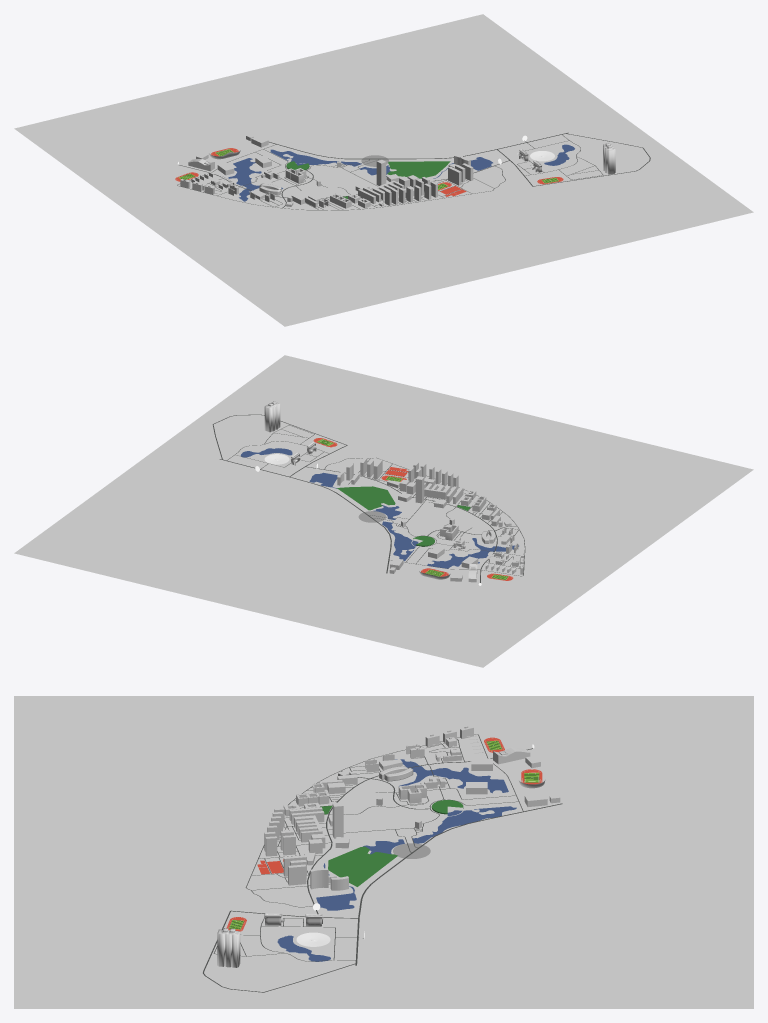
The model's file is map.glb.
3 renders of one model, top to bottom at view 1: azimuth 30°, elevation 25°; view 2: azimuth 150°, elevation 25°; view 3: azimuth 270°, elevation 25°, orthographic. The views are drawn at different scales.
Visible parts, largest first — view 1: 地面, 湖, map_2.osm_roads_service, map_2.osm_forest; view 2: 地面, 湖, map_2.osm_roads_service, map_2.osm_forest; view 3: 地面, 湖, map_2.osm_roads_service, map_2.osm_forest, Cube, map_2.osm_roads_residential, 基础实验大楼.
Part boxes in pixels (x1,y1,x2,y2): 地面: [14, 14, 753, 326]; 湖: [228, 149, 492, 201]; map_2.osm_roads_service: [177, 135, 603, 210]; map_2.osm_forest: [387, 161, 450, 178]; 地面: [14, 355, 753, 667]; 湖: [309, 472, 518, 568]; map_2.osm_roads_service: [227, 425, 525, 576]; map_2.osm_forest: [337, 486, 395, 510]; 地面: [14, 696, 753, 1008]; 湖: [316, 759, 516, 910]; map_2.osm_roads_service: [213, 734, 523, 961]; map_2.osm_forest: [328, 846, 397, 886]; Cube: [217, 928, 240, 967]; map_2.osm_roads_residential: [203, 748, 532, 992]; 基础实验大楼: [294, 815, 322, 842].
Size of the model in its own units: 27.24 by 1.44 by 27.24.
